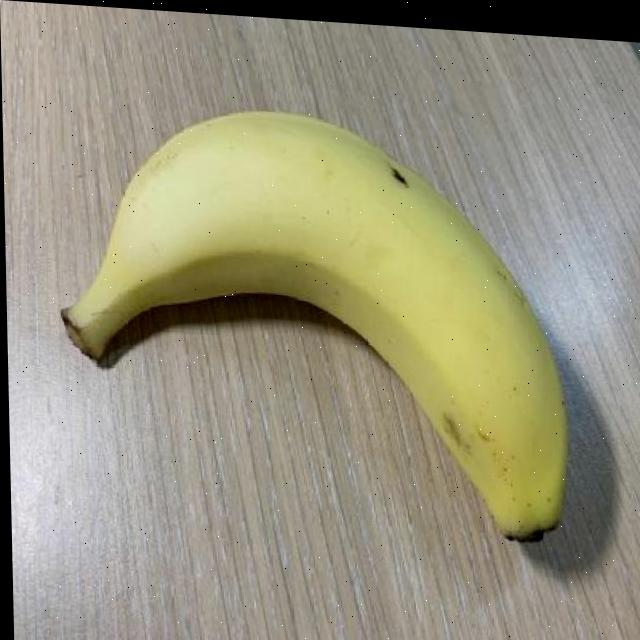banana: (55, 88, 576, 556)
